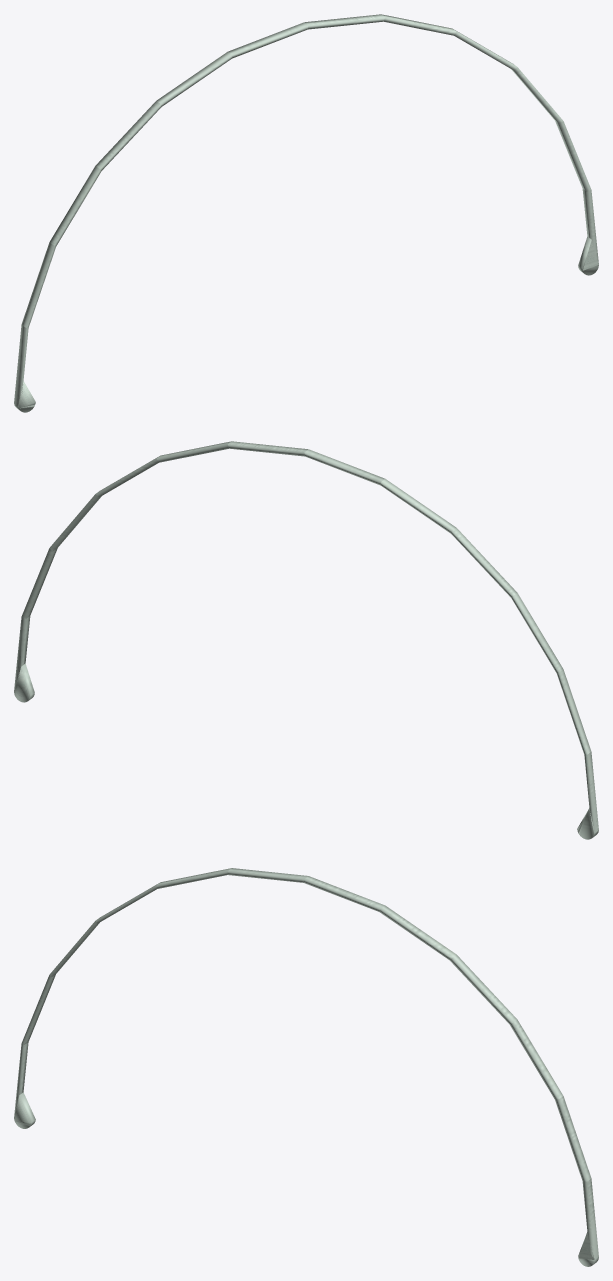
Rendered from original-7.obj.
3 views of the same model, one above another, from view 1: azimuth 30°, elevation 25°; view 2: azimuth 150°, elevation 25°; view 3: azimuth 330°, elevation 25° (orthographic).
Visible parts, largest first — view 1: #ID81.011, #ID81, #ID81.010, #ID81.013, #ID81.009, #ID81.008, #ID81.004, #ID81.012, #ID81.003, #ID81.007, #ID81.002; view 2: #ID81.011, #ID81, #ID81.010, #ID81.013, #ID81.009, #ID81.008, #ID81.004, #ID81.012, #ID81.003, #ID81.007, #ID81.002; view 3: #ID81.005, #ID81.004, #ID81.006, #ID81.007, #ID81.008, #ID81.003, #ID81.009.
Part boxes in pixels (x1=…): #ID81.011: x1=95, y1=101, x2=161, y2=170; #ID81: x1=49, y1=166, x2=101, y2=246; #ID81.010: x1=156, y1=52, x2=231, y2=106; #ID81.013: x1=21, y1=242, x2=55, y2=327; #ID81.009: x1=228, y1=22, x2=308, y2=58; #ID81.008: x1=305, y1=14, x2=385, y2=29; #ID81.004: x1=555, y1=121, x2=591, y2=191; #ID81.012: x1=14, y1=325, x2=28, y2=405; #ID81.003: x1=582, y1=189, x2=598, y2=263; #ID81.007: x1=381, y1=14, x2=456, y2=35; #ID81.002: x1=578, y1=236, x2=598, y2=275; #ID81.011: x1=451, y1=528, x2=517, y2=597; #ID81: x1=511, y1=593, x2=563, y2=673; #ID81.010: x1=381, y1=479, x2=456, y2=533; #ID81.013: x1=557, y1=669, x2=591, y2=754; #ID81.009: x1=304, y1=449, x2=384, y2=485; #ID81.008: x1=227, y1=441, x2=307, y2=456; #ID81.004: x1=21, y1=548, x2=57, y2=618; #ID81.012: x1=584, y1=752, x2=598, y2=832; #ID81.003: x1=14, y1=616, x2=30, y2=690; #ID81.007: x1=156, y1=441, x2=231, y2=462; #ID81.002: x1=14, y1=663, x2=34, y2=702; #ID81.005: x1=509, y1=1020, x2=563, y2=1099; #ID81.004: x1=555, y1=1096, x2=591, y2=1181; #ID81.006: x1=450, y1=954, x2=517, y2=1024; #ID81.007: x1=379, y1=905, x2=456, y2=960; #ID81.008: x1=303, y1=876, x2=384, y2=911; #ID81.003: x1=582, y1=1178, x2=598, y2=1259; #ID81.009: x1=227, y1=868, x2=307, y2=882.
Size of the model in its own units: 0.9672 by 0.5074 by 0.0125.
